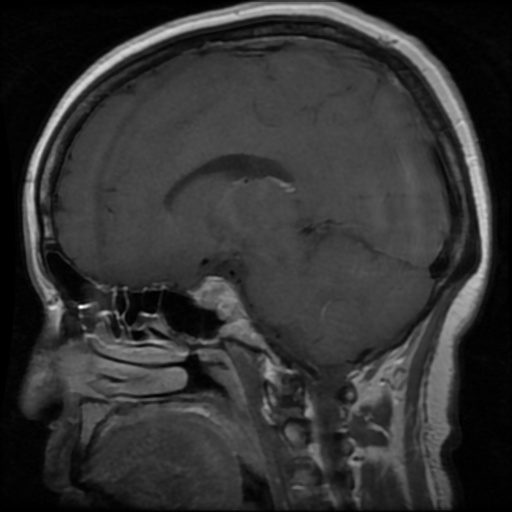pituitary: (189, 275, 236, 320)
